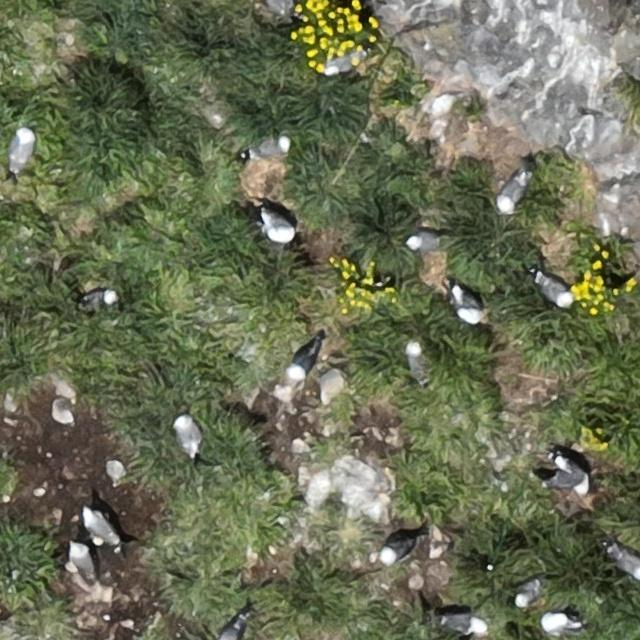umineko: (551, 462, 590, 491), (538, 276, 572, 306), (10, 127, 34, 168), (499, 175, 527, 210), (263, 213, 293, 244), (84, 510, 112, 542), (289, 347, 316, 380), (177, 417, 200, 454), (612, 549, 640, 579), (456, 289, 480, 323), (439, 614, 479, 634), (252, 135, 290, 156), (70, 544, 94, 575), (382, 540, 414, 563), (326, 53, 359, 74), (515, 579, 539, 606), (542, 614, 574, 633), (406, 232, 436, 251), (84, 290, 115, 308), (406, 342, 421, 374), (220, 620, 242, 640), (262, 0, 291, 15)
